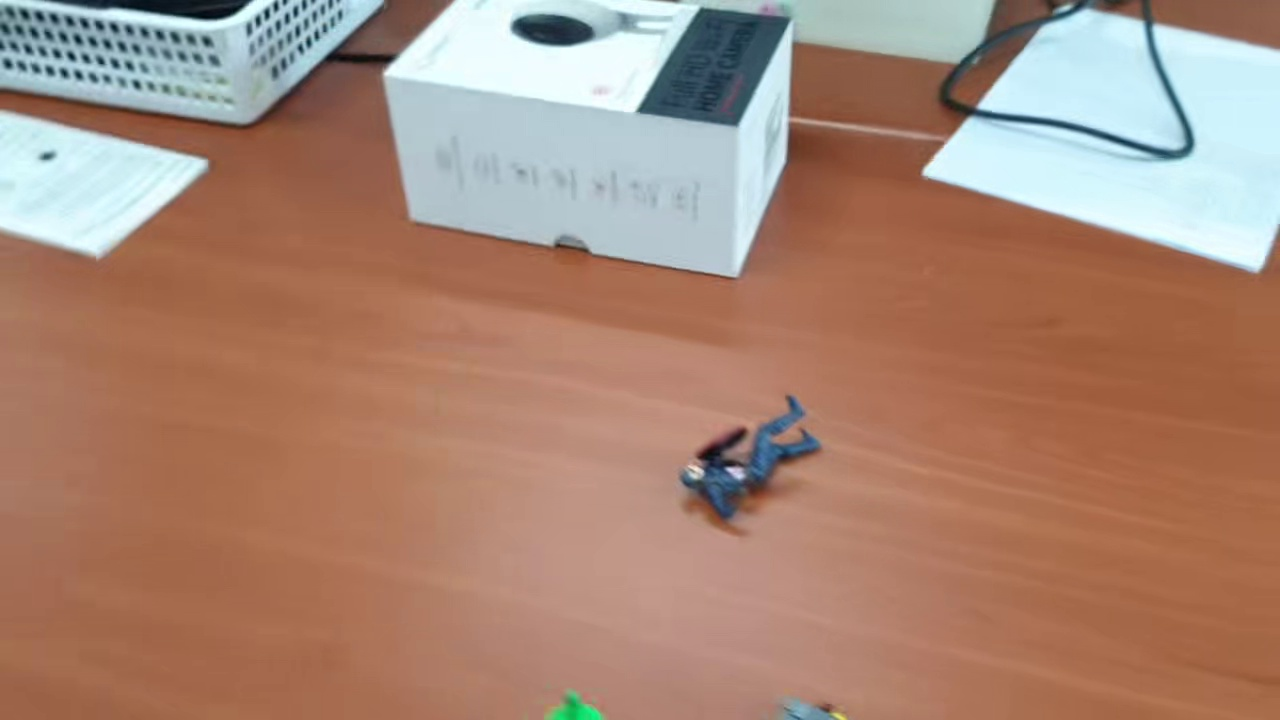people: (681, 393, 820, 528)
